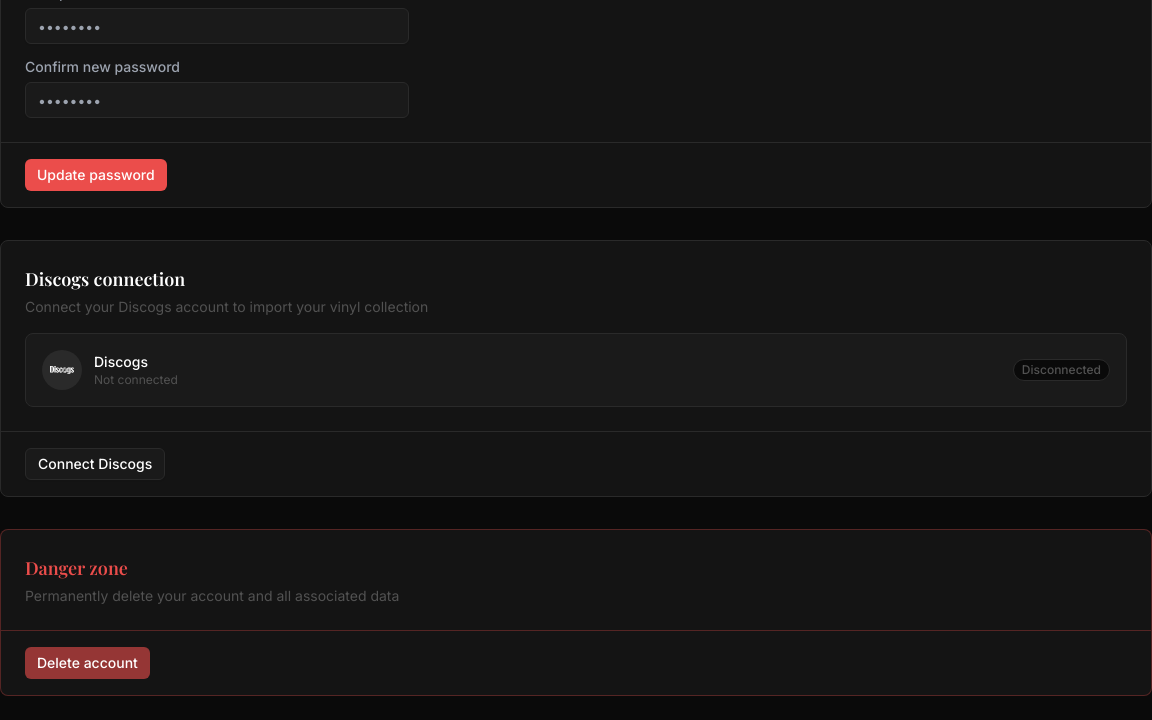
Test case: SettingsPage › Discogs connect flow › shows error when Discogs connect fails
The image size is (1152, 720).
(page scrolled)
What coordinates should you click on to do the following:
click the button "Connect Discogs"
I would click on:
 (95, 464)
Its box is [25,448,165,480].
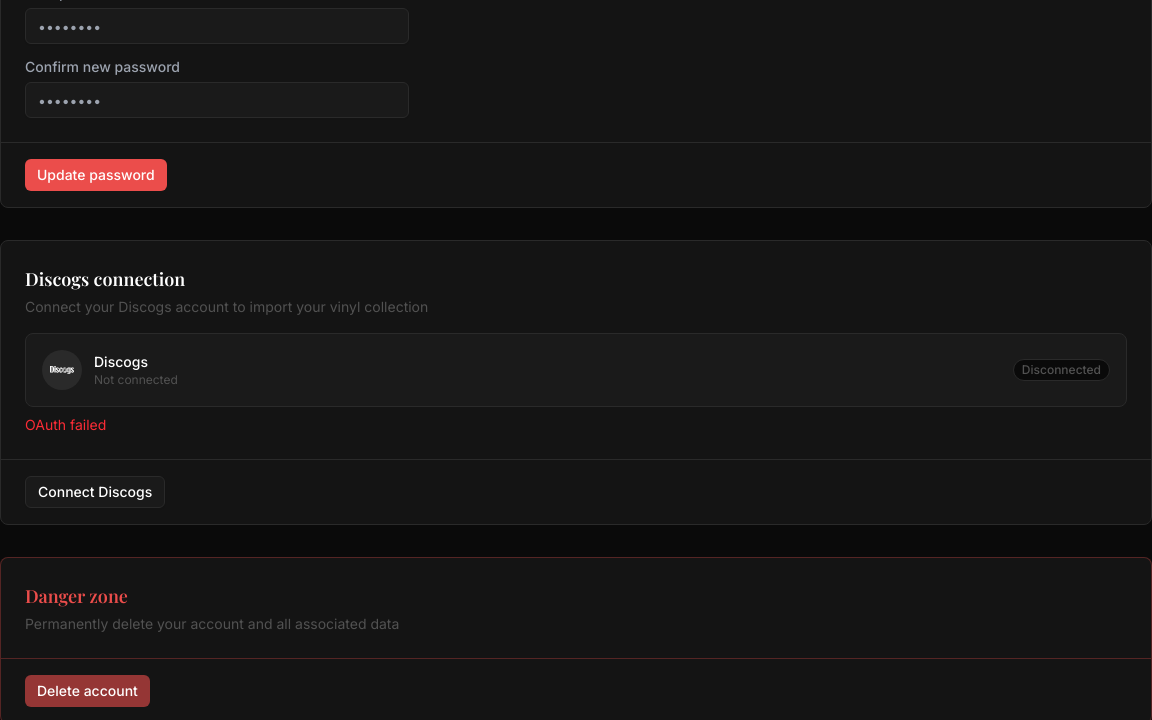
Result: the text "OAuth failed" is shown at [25,416,106,433]
